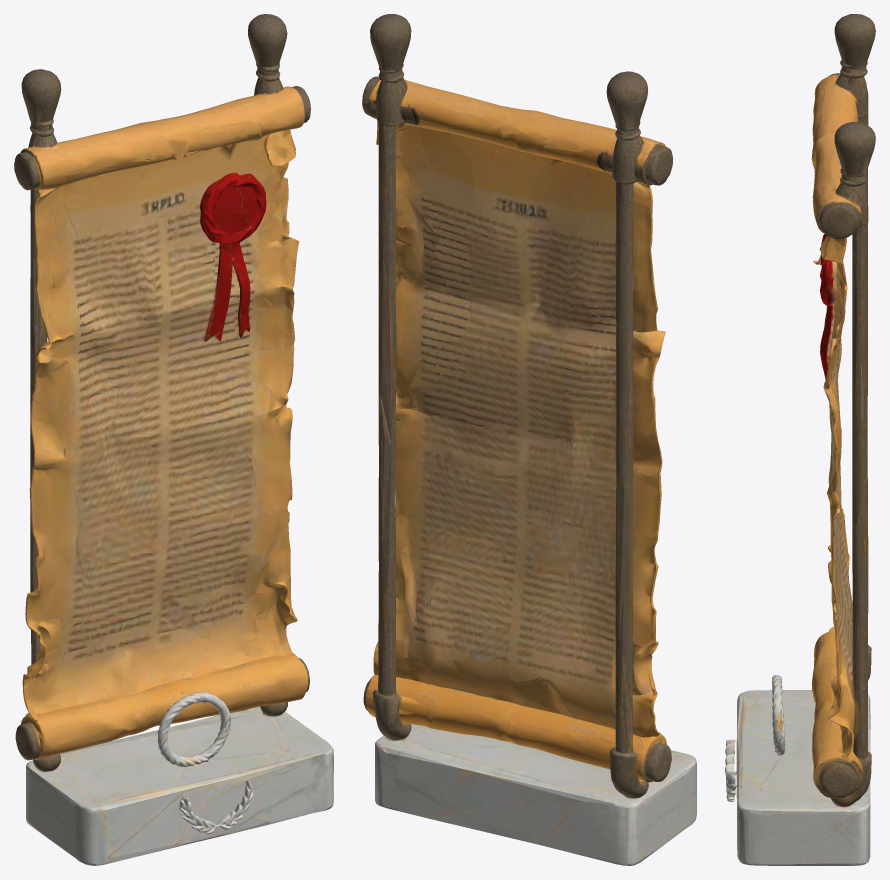
Rendered from statue-resume.glb.
3 renders of one model, left to right at view 1: azimuth 30°, elevation 25°; view 2: azimuth 150°, elevation 25°; view 3: azimuth 270°, elevation 25°, orthographic. The views are drawn at different scales.
Size of the model in its own units: 0.7452 by 1.9 by 0.3531.
1 material, 1 textured.
